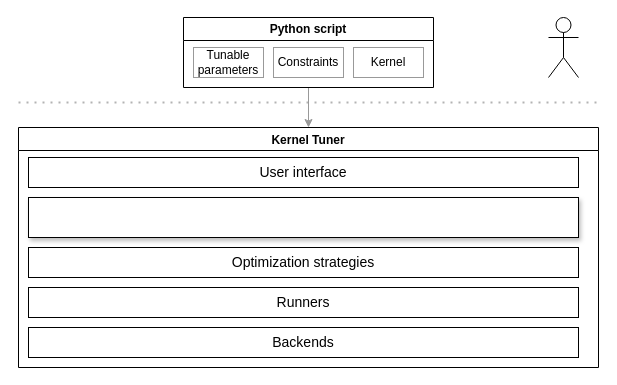
Some shapes in this 617 by 385 pixel diagram are drawn without their labels. The shapes that lost their labels are listed below. From the top down, each one's centre as x and y in pixels, then its label:
At point (563, 47): "User input".
At point (304, 218): "Search space constructor".
